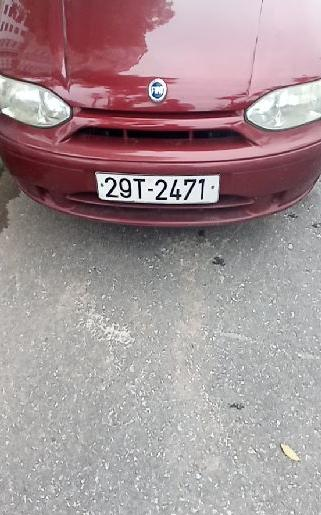Plate-iWeP: (99, 175, 219, 200)
